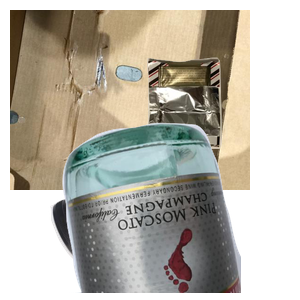cardboard: (10, 10, 250, 190)
glass: (60, 120, 300, 300)
plastic: (48, 152, 228, 300)
trash: (144, 55, 300, 197)
